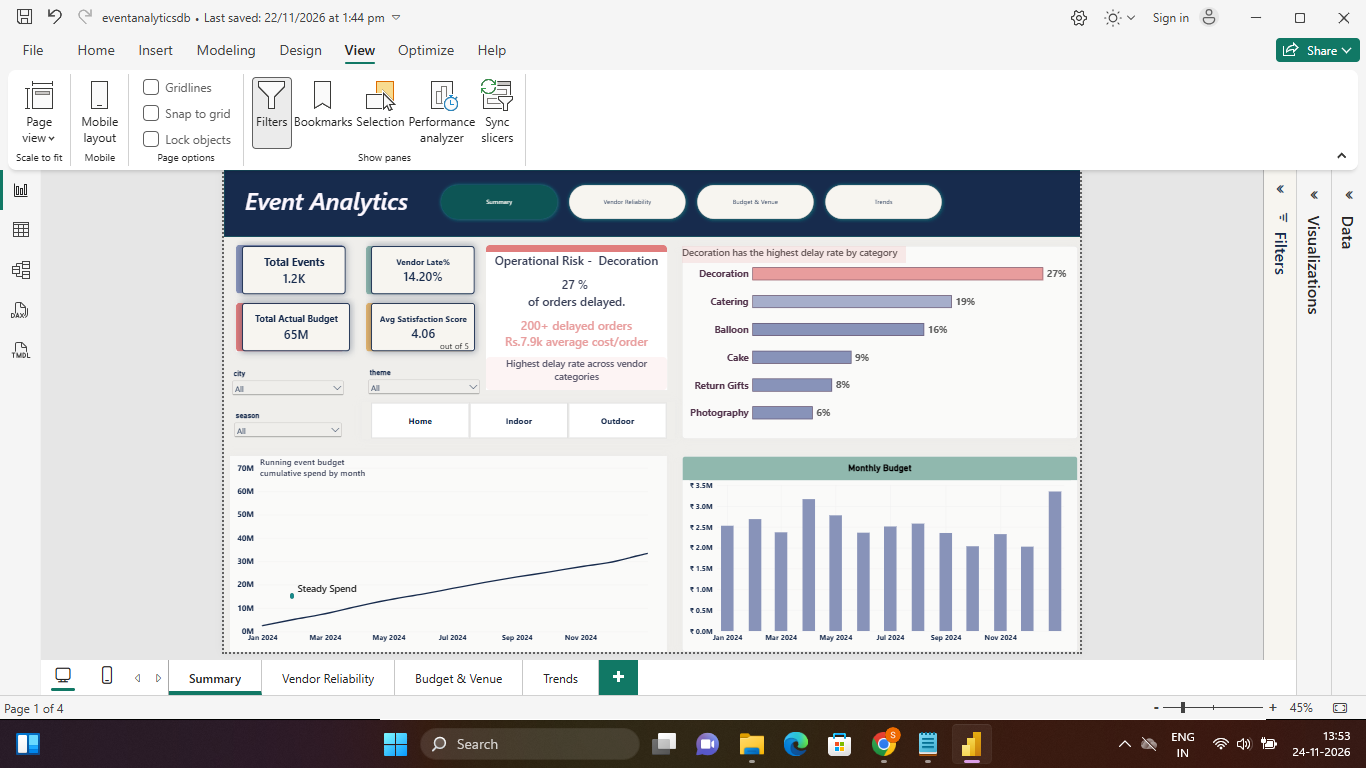

What the dashboard file says about the page in this screenshot:
{"tool":"powerbi","page":{"name":"Summary","canvas":[1920,1080],"ordinal":0},"visuals":[{"type":"lineChart","fields":{"Category":["events.Event Month Date"],"Y":["event_Measures.Running Total Budget"]},"box":[13.4,640.8,979.2,439.2],"z":0},{"type":"shape","box":[587.1,168,405.6,237.5],"z":1000},{"type":"shape","box":[26.9,168,242.6,108.5],"z":2000},{"type":"shape","box":[319.1,170.2,238.3,108.5],"z":3000},{"type":"shape","box":[26.9,298,242.6,108.5],"z":4000},{"type":"shape","box":[318.2,298,242.6,108.5],"z":5000},{"type":"shape","box":[0,0,3540,150],"z":6000},{"type":"textbox","box":[47.1,31.4,401.1,87.4],"z":7000},{"type":"pageNavigator","box":[477.3,24.6,1142.7,94.1],"z":8000},{"type":"cardVisual","fields":{"Data":["event_Measures.Total Events"]},"box":[40.3,170.3,232,108],"z":9000},{"type":"cardVisual","fields":{"Data":["event_Measures.Vendor Late %"]},"box":[329.4,170.3,232,108],"z":10000},{"type":"cardVisual","fields":{"Data":["event_Measures.Total Budget Actual"]},"box":[40.3,298,242,108],"z":11000},{"type":"cardVisual","fields":{"Data":["event_Measures.Avg Satisfaction Score"]},"box":[329.4,298,233,107.6],"z":12000},{"type":"textbox","box":[484,380.9,78,38],"z":13000},{"type":"clusteredBarChart","title":"Delay rate by category","fields":{"Category":["vendor_orders.vendor_category"],"Y":["event_Measures.Vendor Late %"]},"box":[1026.2,170.3,887.3,432.4],"z":14000},{"type":"textbox","box":[587.1,183.7,405.6,239.8],"z":15000},{"type":"textbox","box":[587.1,419,405.6,73.9],"z":16000},{"type":"shape","box":[587.1,419,405.6,73.9],"z":17000},{"type":"textbox","box":[80.7,640.8,658.8,71.7],"z":18000},{"type":"clusteredColumnChart","title":"Monthly Budget ","fields":{"Category":["events.Event Month Date"],"Y":["event_Measures.Total Budget Actual"]},"box":[1026.2,640.8,887.3,439.2],"z":19000},{"type":"slicer","fields":{"Values":["events.city"]},"box":[13.4,445.9,259.9,94.1],"z":20000},{"type":"slicer","fields":{"Values":["events.theme"]},"box":[318.2,443.7,259.9,76.2],"z":21000},{"type":"slicer","fields":{"Values":["events.season"]},"box":[17.9,540,251,87.4],"z":22000},{"type":"slicer","fields":{"Values":["events.venue_type"]},"box":[309.2,519.8,701.3,82.9],"z":23000},{"type":"textbox","box":[1026.2,170.3,501.9,105.3],"z":24000},{"type":"shape","box":[1026.2,170.3,501.9,38.1],"z":25000},{"type":"shape","box":[147.9,947.8,9,13.4],"z":25001},{"type":"textbox","box":[159.1,923.2,150.1,62.7],"z":25002}]}

Visuals, with their boxes on the page's 1920x1080 design canvas (x1, y1, x2, y2). These are canvas units, not pixel positions in the 1366x768 screenshot, which may show the page scaled, cropped or inside an application window:
lineChart - events.Event Month Date x event_Measures.Running Total Budget: pyautogui.locateOnScreen(13, 641, 993, 1080)
shape: pyautogui.locateOnScreen(587, 168, 993, 406)
shape: pyautogui.locateOnScreen(27, 168, 270, 276)
shape: pyautogui.locateOnScreen(319, 170, 557, 279)
shape: pyautogui.locateOnScreen(27, 298, 270, 406)
shape: pyautogui.locateOnScreen(318, 298, 561, 406)
shape: pyautogui.locateOnScreen(0, 0, 3540, 150)
textbox: pyautogui.locateOnScreen(47, 31, 448, 119)
pageNavigator: pyautogui.locateOnScreen(477, 25, 1620, 119)
cardVisual - event_Measures.Total Events: pyautogui.locateOnScreen(40, 170, 272, 278)
cardVisual - event_Measures.Vendor Late %: pyautogui.locateOnScreen(329, 170, 561, 278)
cardVisual - event_Measures.Total Budget Actual: pyautogui.locateOnScreen(40, 298, 282, 406)
cardVisual - event_Measures.Avg Satisfaction Score: pyautogui.locateOnScreen(329, 298, 562, 406)
textbox: pyautogui.locateOnScreen(484, 381, 562, 419)
"Delay rate by category" clusteredBarChart: pyautogui.locateOnScreen(1026, 170, 1914, 603)
textbox: pyautogui.locateOnScreen(587, 184, 993, 424)
textbox: pyautogui.locateOnScreen(587, 419, 993, 493)
shape: pyautogui.locateOnScreen(587, 419, 993, 493)
textbox: pyautogui.locateOnScreen(81, 641, 740, 712)
"Monthly Budget " clusteredColumnChart: pyautogui.locateOnScreen(1026, 641, 1914, 1080)
slicer - events.city: pyautogui.locateOnScreen(13, 446, 273, 540)
slicer - events.theme: pyautogui.locateOnScreen(318, 444, 578, 520)
slicer - events.season: pyautogui.locateOnScreen(18, 540, 269, 627)
slicer - events.venue_type: pyautogui.locateOnScreen(309, 520, 1010, 603)
textbox: pyautogui.locateOnScreen(1026, 170, 1528, 276)
shape: pyautogui.locateOnScreen(1026, 170, 1528, 208)
shape: pyautogui.locateOnScreen(148, 948, 157, 961)
textbox: pyautogui.locateOnScreen(159, 923, 309, 986)
